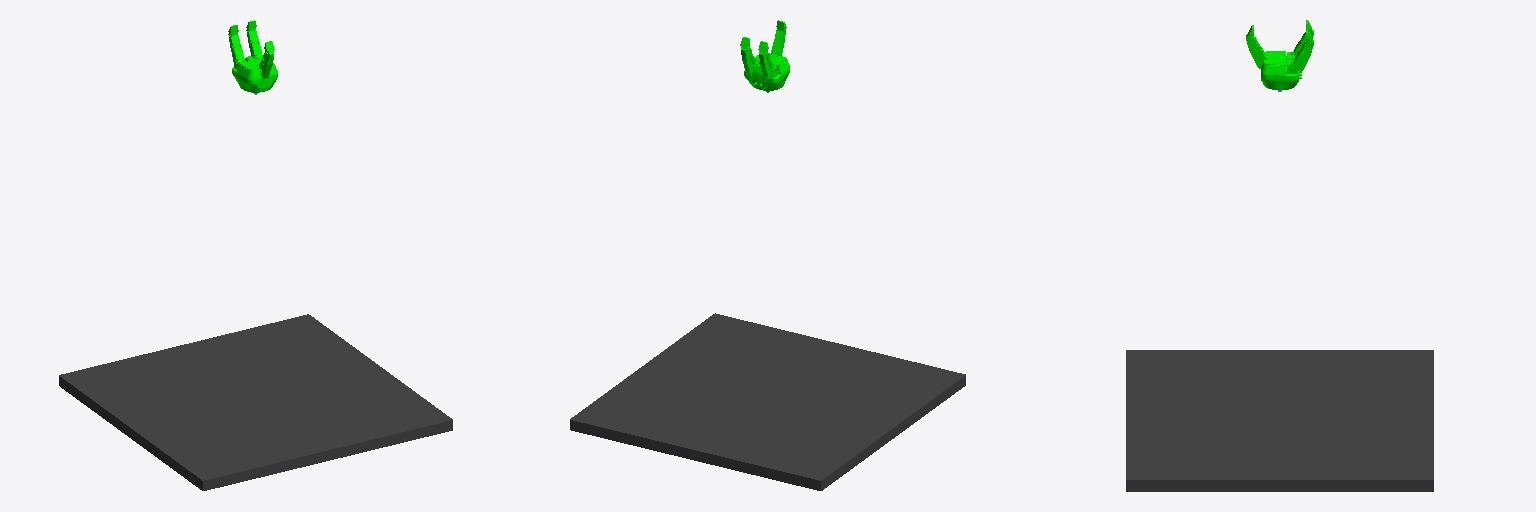
--- Render facts (derived) ---
3 views of the same robot in one strip: view 1: azimuth 30°, elevation 25°; view 2: azimuth 150°, elevation 25°; view 3: azimuth 270°, elevation 25° (orthographic).
Model lwr with 25 links and 24 joints (18 revolute, 6 fixed), rooted at base, posed all joints at 0.
Visible links, largest first — view 1: base, left_palm; view 2: base, left_palm; view 3: base, left_palm.
Link boxes in pixels (x1=…): base: x1=59, y1=314, x2=452, y2=490; left_palm: x1=232, y1=56, x2=277, y2=92; base: x1=570, y1=313, x2=965, y2=490; left_palm: x1=744, y1=53, x2=789, y2=90; base: x1=1126, y1=350, x2=1433, y2=491; left_palm: x1=1261, y1=51, x2=1301, y2=89.
Bounding box of the posed robot: 1 × 1 × 1.43 m (x, y, z).
Meshes: 13 distinct files referenced, 13 mesh visuals loaded (5 OBJ); not drawn: 8 (reference not matched to a file when rendering).

URDF robot description (lwr):
<?xml version="1.0" ?>
<!-- =================================================================================== -->
<!-- |    This document was autogenerated by xacro from kuka_lwr_arm.urdf.xml          | -->
<!-- |    EDITING THIS FILE BY HAND IS NOT RECOMMENDED                                 | -->
<!-- =================================================================================== -->
<robot name="lwr" xmlns:controller="http://playerstage.sourceforge.net/gazebo/xmlschema/#controller" xmlns:interface="http://playerstage.sourceforge.net/gazebo/xmlschema/#interface" xmlns:sensor="http://playerstage.sourceforge.net/gazebo/xmlschema/#sensor" xmlns:xacro="http://www.ros.org/wiki/xacro">
  <gazebo>
    <plugin filename="librtt_gazebo_plugin.so" name="rtt_gazebo">
      <opsScript>
        import(&quot;rtt_ros&quot;);
        ros.import(&quot;rtt_roscomm&quot;);
        ros.import(&quot;rtt_rosparam&quot;);
        ros.import(&quot;rtt_sensor_msgs&quot;);
        ros.import(&quot;lwr_simulation&quot;);
        ros.import(&quot;oro_joint_state_publisher&quot;);
        
        loadComponent(&quot;FRI&quot;,&quot;LWRController&quot;);
        loadComponent(&quot;joints&quot;,&quot;JointStatePublisher&quot;);
        
        loadService(&quot;FRI&quot;,&quot;rosparam&quot;);
        loadService(&quot;joints&quot;,&quot;rosparam&quot;);
        
        setActivity(&quot;FRI&quot;, 0.0, 5, ORO_SCHED_RT);
        setActivity(&quot;joints&quot;, 0.02, 5, ORO_SCHED_RT);
        
        connect(&quot;FRI.JointPosition&quot;,&quot;joints.msrJntPos&quot;, ConnPolicy());
        stream(&quot;joints.joints_state&quot;, rostopic.connection(&quot;/joints_state&quot;));
        
        joints.rosparam.refreshProperties();
        joints.configure();
        joints.start();
      </opsScript>
      <component>FRI</component>
    </plugin>
  </gazebo>
  <material name="DarkGrey">
    <color rgba="0.3 0.3 0.3 1.0"/>
  </material>
  <material name="Red">
    <color rgba="0.3 0.3 0.3 1.0"/>
  </material>
  <material name="Black">
    <color rgba="0 0 0 1.0"/>
  </material>
  <material name="Orange">
    <!--color rgba="1.0 0.487 0 1.0"/-->
    <color rgba="0.0 0.15 0.7 1.0"/>
  </material>
  <material name="Silver">
    <color rgba="1.0 1.0 1.0 1.0"/>
  </material>
  <material name="Grey">
    <color rgba="0.7 0.7 0.7 1.0"/>
  </material>
  <material name="Blue">
    <color rgba="0.0 0.0 0.8 1.0"/>
  </material>
  <material name="HandGray">
    <color rgba="0.953 0.996 0.694 1.0"/>
  </material>
  <material name="SickBlue">
    <color rgba="0.3058 0.5921 0.7294 1.0"/>
  </material>
  <property name="M_PI" value="3.1415926535897931" />
  <!--
  <link name="dupa" >
  </link>
  
  <joint name="arm_world_joint" type="fixed">
    <origin xyz="0 0 0.3" rpy="0 0 0"/>
    <parent link="world"/>
    <child link="world_link"/>
  </joint>
-->
  <link name="base">
    <inertial>
      <mass value="50.0"/>
      <com xyz="0 0 0"/>
      <inertia ixx="0.01" ixy="0.00" ixz="0.00" iyy="0.01" iyz="0.00" izz="0.01"/>
    </inertial>
    <visual>
      <origin rpy="0 0 0" xyz="0 0 0"/>
      <geometry>
        <box size="1 1 0.04"/>
      </geometry>
      <material name="DarkGrey"/>
    </visual>
    <collision>
      <origin rpy="0 0 0" xyz="0 0 0"/>
      <geometry>
        <box size="1 1 0.04"/>
      </geometry>
    </collision>
  </link>
  <joint name="base_joint" type="fixed">
    <origin rpy="0 0 3.14159265359" xyz="0 0 0.02"/>
    <parent link="base"/>
    <child link="lwr_arm_0_link"/>
  </joint>
  <link name="lwr_arm_0_link">
    <inertial>
      <mass value="2.0"/>
      <origin xyz="0 0 0"/>
      <inertia ixx="0.00381666666667" ixy="0" ixz="0" iyy="0.0036" iyz="0" izz="0.00381666666667"/>
    </inertial>
    <visual>
      <origin rpy="0 0 0" xyz="0 0 0"/>
      <geometry>
        <mesh filename="package://lwr_defs/meshes/lwr/base.stl"/>
      </geometry>
      <material name="Orange"/>
    </visual>
    <collision>
      <origin rpy="0 0 3.14159265359" xyz="0 0 0"/>
      <geometry>
        <mesh filename="package://lwr_defs/meshes/lwr/convex/arm_base_convex.stl"/>
        <!--cylinder length="0.11" radius="0.07"/-->
      </geometry>
    </collision>
  </link>
  <joint name="lwr_arm_0_joint" type="revolute">
    <origin rpy="0 0 0" xyz="0 0 0.11"/>
    <axis xyz="0 0 1"/>
    <limit effort="204" lower="-2.96705972839" upper="2.96705972839" velocity="1.91986217719"/>
    <safety_controller k_position="30" k_velocity="30" soft_lower_limit="-2.93215314335" soft_upper_limit="2.93215314335"/>
    <dynamics damping="1.0"/>
    <parent link="lwr_arm_0_link"/>
    <child link="lwr_arm_1_link"/>
  </joint>
  <link name="lwr_arm_1_link">
    <inertial>
      <mass value="2.0"/>
      <origin rpy="0 0 0" xyz="0 -0.06 0.130"/>
      <inertia ixx="0.0136666666667" ixy="0" ixz="0" iyy="0.003" iyz="0" izz="0.0118666666667"/>
    </inertial>
    <visual>
      <origin rpy="0 0 0" xyz="0 0 -0.008"/>
      <geometry>
        <mesh filename="package://lwr_defs/meshes/lwr/link_1.stl"/>
      </geometry>
      <material name="Orange"/>
    </visual>
      <collision>
        <origin xyz="0 0 0" rpy="0 0 0"/>
        <geometry>
          <mesh filename="package://lwr_defs/meshes/lwr/convex/arm_segment_a_convex.stl"/>
        </geometry>
      </collision>
    <!--collision>
      <origin rpy="0 0 0" xyz="0 0 0.0"/>
      <geometry>
        <sphere radius="0.07"/>
      </geometry>
    </collision>
    <collision>
      <origin rpy="0 0 0" xyz="0 -0.06 0.2"/>
      <geometry>
        <sphere radius="0.07"/>
      </geometry>
    </collision>
    <collision>
      <origin rpy="0.291 0 0" xyz="0 -0.03 0.1"/>
      <geometry>
        <cylinder length="0.208" radius="0.07"/>
      </geometry>
    </collision-->
  </link>
  <gazebo reference="lwr_arm_1_link">
    <gravity>false</gravity>
  </gazebo>
  <transmission name="lwr_arm_0_trans" type="SimpleTransmission">
    <actuator name="lwr_arm_0_motor"/>
    <joint name="lwr_arm_0_joint"/>
    <mechanicalReduction>1.0</mechanicalReduction>
  </transmission>
  <joint name="lwr_arm_1_joint" type="revolute">
    <origin rpy="0 0 0" xyz="0 0 0.2005"/>
    <axis xyz="0 1 0"/>
    <limit effort="306" lower="-2.09439510239" upper="2.09439510239" velocity="1.91986217719"/>
    <safety_controller k_position="30" k_velocity="30" soft_lower_limit="-2.05948851735" soft_upper_limit="2.05948851735"/>
    <dynamics damping="1.0" friction="10"/>
    <parent link="lwr_arm_1_link"/>
    <child link="lwr_arm_2_link"/>
  </joint>
  <link name="lwr_arm_2_link">
    <inertial>
      <mass value="2.0"/>
      <origin rpy="0 0 0" xyz="0 0.06 0.07"/>
      <inertia ixx="0.0136666666667" ixy="0" ixz="0" iyy="0.003" iyz="0" izz="0.0118666666667"/>
    </inertial>
    <visual>
      <origin rpy="0 0 0" xyz="0 0 0.0"/>
      <geometry>
        <mesh filename="package://lwr_defs/meshes/lwr/link_2.stl"/>
      </geometry>
      <material name="Orange"/>
    </visual>
      <collision>
        <origin xyz="0 0 0.2" rpy="3.14159265359 0 0"/>
        <geometry>
          <mesh filename="package://lwr_defs/meshes/lwr/convex/arm_segment_b_convex.stl"/>
        </geometry>
      </collision>
    <!--collision>
      <origin rpy="0 0 0" xyz="0 0 0.2"/>
      <geometry>
        <sphere radius="0.07"/>
      </geometry>
    </collision>
    <collision>
      <origin rpy="0 0 0" xyz="0 0.06 0.0"/>
      <geometry>
        <sphere radius="0.07"/>
      </geometry>
    </collision>
    <collision>
      <origin rpy="0.291 0 0" xyz="0 0.03 0.1"/>
      <geometry>
        <cylinder length="0.208" radius="0.07"/>
      </geometry>
    </collision-->
  </link>
  <gazebo reference="lwr_arm_2_link">
    <gravity>false</gravity>
  </gazebo>
  <transmission name="lwr_arm_1_trans" type="SimpleTransmission">
    <actuator name="lwr_arm_1_motor"/>
    <joint name="lwr_arm_1_joint"/>
    <mechanicalReduction>1.0</mechanicalReduction>
  </transmission>
  <joint name="lwr_arm_2_joint" type="revolute">
    <origin rpy="0 0 0" xyz="0 0 0.20"/>
    <axis xyz="0 0 1"/>
    <limit effort="204" lower="-2.96705972839" upper="2.96705972839" velocity="2.26892802759"/>
    <safety_controller k_position="30" k_velocity="30" soft_lower_limit="-2.93215314335" soft_upper_limit="2.93215314335"/>
    <dynamics damping="1.0"/>
    <parent link="lwr_arm_2_link"/>
    <child link="lwr_arm_3_link"/>
  </joint>
  <link name="lwr_arm_3_link">
    <inertial>
      <mass value="2.0"/>
      <origin rpy="0 0 0" xyz="0 0.06 0.130"/>
      <inertia ixx="0.0136666666667" ixy="0" ixz="0" iyy="0.003" iyz="0" izz="0.0118666666667"/>
    </inertial>
    <visual>
      <origin rpy="0 0 0" xyz="0 0 -0.008"/>
      <geometry>
        <mesh filename="package://lwr_defs/meshes/lwr/link_3.stl"/>
      </geometry>
      <material name="Orange"/>
    </visual>
      <collision>
        <origin xyz="0 0 0" rpy="0 0 3.1415926535897931"/>
        <geometry>
          <mesh filename="package://lwr_defs/meshes/lwr/convex/arm_segment_a_convex.stl"/>
        </geometry>
      </collision>
    <!--collision>
      <origin rpy="0 0 0" xyz="0 0 0.0"/>
      <geometry>
        <sphere radius="0.07"/>
      </geometry>
    </collision>
    <collision>
      <origin rpy="0 0 0" xyz="0 0.06 0.2"/>
      <geometry>
        <sphere radius="0.07"/>
      </geometry>
    </collision>
    <collision>
      <origin rpy="-0.291 0 0" xyz="0 0.03 0.1"/>
      <geometry>
        <cylinder length="0.208" radius="0.07"/>
      </geometry>
    </collision-->
  </link>
  <gazebo reference="lwr_arm_3_link">
    <gravity>false</gravity>
  </gazebo>
  <transmission name="lwr_arm_2_trans" type="SimpleTransmission">
    <actuator name="lwr_arm_2_motor"/>
    <joint name="lwr_arm_2_joint"/>
    <mechanicalReduction>1.0</mechanicalReduction>
  </transmission>
  <joint name="lwr_arm_3_joint" type="revolute">
    <origin rpy="0 0 0" xyz="0 0 0.20"/>
    <axis xyz="0 -1 0"/>
    <limit effort="306" lower="-2.09439510239" upper="2.09439510239" velocity="2.26892802759"/>
    <safety_controller k_position="30" k_velocity="30" soft_lower_limit="-2.05948851735" soft_upper_limit="2.05948851735"/>
    <dynamics damping="1.0"/>
    <parent link="lwr_arm_3_link"/>
    <child link="lwr_arm_4_link"/>
  </joint>
  <link name="lwr_arm_4_link">
    <inertial>
      <mass value="2.0"/>
      <origin rpy="0 0 0" xyz="0 -0.06 0.07"/>
      <inertia ixx="0.0136666666667" ixy="0" ixz="0" iyy="0.003" iyz="0" izz="0.0118666666667"/>
    </inertial>
    <visual>
      <origin rpy="0 0 0" xyz="0 0 0.0"/>
      <geometry>
        <mesh filename="package://lwr_defs/meshes/lwr/link_4.stl"/>
      </geometry>
      <material name="Orange"/>
    </visual>

      <collision>
        <origin xyz="0 0 0.2" rpy="0 3.1415926535897931 0"/>
        <geometry>
          <mesh filename="package://lwr_defs/meshes/lwr/convex/arm_segment_b_convex.stl"/>
        </geometry>
      </collision>

    <!--collision>
      <origin rpy="0 0 0" xyz="0 0 0.2"/>
      <geometry>
        <sphere radius="0.07"/>
      </geometry>
    </collision>
    <collision>
      <origin rpy="0 0 0" xyz="0 -0.06 0.0"/>
      <geometry>
        <sphere radius="0.07"/>
      </geometry>
    </collision>
    <collision>
      <origin rpy="-0.291 0 0" xyz="0 -0.03 0.1"/>
      <geometry>
        <cylinder length="0.208" radius="0.07"/>
      </geometry>
    </collision-->
  </link>
  <gazebo reference="lwr_arm_4_link">
    <gravity>false</gravity>
  </gazebo>
  <transmission name="lwr_arm_3_trans" type="SimpleTransmission">
    <actuator name="lwr_arm_3_motor"/>
    <joint name="lwr_arm_3_joint"/>
    <mechanicalReduction>1.0</mechanicalReduction>
  </transmission>
  <joint name="lwr_arm_4_joint" type="revolute">
    <origin rpy="0 0 0" xyz="0 0 0.20"/>
    <axis xyz="0 0 1"/>
    <limit effort="204" lower="-2.96705972839" upper="2.96705972839" velocity="2.26892802759"/>
    <safety_controller k_position="30" k_velocity="30" soft_lower_limit="-2.93215314335" soft_upper_limit="2.93215314335"/>
    <dynamics damping="1.0"/>
    <parent link="lwr_arm_4_link"/>
    <child link="lwr_arm_5_link"/>
  </joint>
  <link name="lwr_arm_5_link">
    <inertial>
      <mass value="2.0"/>
      <origin rpy="0 0 0" xyz="0 0 0.124"/>
      <inertia ixx="0.0126506666667" ixy="0" ixz="0" iyy="0.003" iyz="0" izz="0.0108506666667"/>
    </inertial>
    <visual>
      <origin rpy="0 0 0" xyz="0 0 -0.008"/>
      <geometry name="lwr_arm_5_geom">
        <mesh filename="package://lwr_defs/meshes/lwr/link_5.stl"/>
      </geometry>
      <material name="Orange"/>
    </visual>
      <collision>
        <origin xyz="0 0 0" rpy="0 0 0"/>
        <geometry>
          <mesh filename="package://lwr_defs/meshes/lwr/convex/arm_segment_last_convex.stl"/>
        </geometry>
      </collision>
    <!--collision>
      <origin rpy="0 0 0" xyz="0 0 0.0"/>
      <geometry>
        <sphere radius="0.07"/>
      </geometry>
    </collision>
    <collision>
      <origin rpy="0 0 0" xyz="0 -0.04 0.19"/>
      <geometry>
        <sphere radius="0.07"/>
      </geometry>
    </collision>
    <collision>
      <origin rpy="0.207 0 0" xyz="0 -0.02 0.095"/>
      <geometry>
        <cylinder length="0.198" radius="0.07"/>
      </geometry>
    </collision-->
  </link>
  <gazebo reference="lwr_arm_5_link">
    <gravity>false</gravity>
  </gazebo>
  <transmission name="lwr_arm_4_trans" type="SimpleTransmission">
    <actuator name="lwr_arm_4_motor"/>
    <joint name="lwr_arm_4_joint"/>
    <mechanicalReduction>1.0</mechanicalReduction>
  </transmission>
  <joint name="lwr_arm_5_joint" type="revolute">
    <origin rpy="0 0 0" xyz="0 0 0.19"/>
    <axis xyz="0 1 0"/>
    <limit effort="306" lower="-2.09439510239" upper="2.09439510239" velocity="3.14159265359"/>
    <safety_controller k_position="30" k_velocity="30" soft_lower_limit="-2.05948851735" soft_upper_limit="2.05948851735"/>
    <dynamics damping="1.0"/>
    <parent link="lwr_arm_5_link"/>
    <child link="lwr_arm_6_link"/>
  </joint>
  <link name="lwr_arm_6_link">
    <inertial>
      <mass value="0.2"/>
      <origin rpy="0 0 0" xyz="0 0 0.0625"/>
      <inertia ixx="0.000520833333333" ixy="0" ixz="0" iyy="0.000520833333333" iyz="0" izz="0.000520833333333"/>
    </inertial>
    <visual>
      <origin rpy="0 0 0" xyz="0 0 0"/>
      <geometry>
        <mesh filename="package://lwr_defs/meshes/lwr/link_6.stl"/>
      </geometry>
      <material name="Grey"/>
    </visual>
    <collision>
      <origin rpy="0 0 0" xyz="0 0 0"/>
      <geometry>
        <mesh filename="package://lwr_defs/meshes/lwr/convex/arm_wrist_convex.stl"/>
      </geometry>
    </collision>
  </link>
  <gazebo reference="lwr_arm_6_link">
    <gravity>false</gravity>
  </gazebo>
  <transmission name="lwr_arm_5_trans" type="SimpleTransmission">
    <actuator name="lwr_arm_5_motor"/>
    <joint name="lwr_arm_5_joint"/>
    <mechanicalReduction>1.0</mechanicalReduction>
  </transmission>
  <joint name="lwr_arm_6_joint" type="revolute">
    <origin rpy="0 0 0" xyz="0 0 0.078"/>
    <axis xyz="0 0 1"/>
    <limit effort="204" lower="-2.96705972839" upper="2.96705972839" velocity="3.14159265359"/>
    <safety_controller k_position="30" k_velocity="30" soft_lower_limit="-2.93215314335" soft_upper_limit="2.93215314335"/>
    <dynamics damping="1.0"/>
    <parent link="lwr_arm_6_link"/>
    <child link="lwr_arm_7_link"/>
  </joint>
  <link name="lwr_arm_7_link">
    <inertial>
      <mass value="0.2"/>
      <origin xyz="0 0 0"/>
      <inertia ixx="0.0333333333333" ixy="0" ixz="0" iyy="0.0333333333333" iyz="0" izz="0.0333333333333"/>
    </inertial>
    <visual>
      <origin rpy="0 0 0" xyz="0 0 0"/>
      <geometry>
        <mesh filename="package://lwr_defs/meshes/lwr/link_7.stl"/>
      </geometry>
      <material name="Grey"/>
    </visual>
    <collision>
      <origin rpy="0 0 -0.785398163397" xyz="0 0 0"/>
      <geometry>
        <cylinder length="0.05" radius="0.04"/>
      </geometry>
    </collision>
  </link>
  <gazebo reference="lwr_arm_7_link">
    <gravity>false</gravity>
  </gazebo>
  <transmission name="lwr_arm_6_trans" type="SimpleTransmission">
    <actuator name="lwr_arm_6_motor"/>
    <joint name="lwr_arm_6_joint"/>
    <mechanicalReduction>1.0</mechanicalReduction>
  </transmission>

  <!-- Components for bonus robotiq hand frames -->
  <link name="l_hand_force_torque">
    <inertial>
      <mass value="0.1"/>
      <origin xyz="0 0 0"/>
      <inertia ixx="0.00001" ixy="0" ixz="0" iyy="0.00001" iyz="0" izz="0.00001"/>
    </inertial>
    <visual>
      <origin rpy="0 0 0" xyz="0 0 0"/>
      <geometry>
        <box size="0.01 0.01 0.01"/>
      </geometry>
    </visual>
  </link>
  <joint name="l_hand_force_torque_joint" type="fixed">
    <origin rpy="1.57079 0 3.1416" xyz="0 0 -0.015"/>
    <parent link="lwr_arm_7_link"/>
    <child link="l_hand_force_torque"/>
  </joint>
  <joint name="l_hand_face_joint" type="fixed">
    <origin rpy="0.0 0.0 0.0" xyz="0 0.12 0"/>
    <parent link="l_hand_force_torque"/>
    <child link="l_hand_face"/>
  </joint>
  <link name="l_hand_face"/>
  <joint name="l_hand_gripper_joint" type="fixed">
    <origin rpy="0.0 0.0 0.0" xyz="0 0.18 0"/>
    <parent link="l_hand_force_torque"/>
    <child link="l_hand_gripper"/>
  </joint>
  <link name="l_hand_gripper"/>


  <!-- Robotiq Hand -->
  <joint name="left_robotiq_hand_joint" type="fixed">
    <origin rpy="0 -1.57079 0" xyz="0 0.06566 0.0"/>
    <parent link="l_hand_force_torque"/>
    <child link="left_palm"/>
  </joint>
  <link name="left_finger_1_link_0">
    <visual>
      <origin rpy="0 0 0" xyz="0.020 0 0"/>
      <geometry>
        <mesh filename="package://robotiq_hand_description/meshes/s-model_articulated/visual/link_0.obj"/>
      </geometry>
      <material name="green">
        <color rgba="0 1 0 1"/>
      </material>
    </visual>
    <collision>
      <origin rpy="0 3.1416 -1.57" xyz="-0.0455 0.0414 0.036"/>
      <geometry>
        <mesh filename="package://robotiq_hand_description/meshes/s-model_articulated/collision/link_0.obj"/>
      </geometry>
      <material name="yellow">
        <color rgba="0 1 1 1"/>
      </material>
    </collision>
  </link>
  <link name="left_finger_1_link_1">
    <visual>
      <origin rpy="0 0 -0.52" xyz="0.050 -.028 0"/>
      <geometry>
        <mesh filename="package://robotiq_hand_description/meshes/s-model_articulated/visual/link_1.obj"/>
      </geometry>
      <material name="green"/>
    </visual>
    <collision>
      <origin rpy="0 0 -0.52" xyz="0.050 -.028 0"/>
      <geometry>
        <mesh filename="package://robotiq_hand_description/meshes/s-model_articulated/collision/link_1.obj"/>
      </geometry>
      <material name="yellow"/>
    </collision>
  </link>
  <link name="left_finger_1_link_2">
    <!--
			NOTE: This link has an offset in the z-direction based on the models that were
			used to generate grap-it poses.  With the offset below the model appears visually
			correct, but it is suspect.
			-->
    <visual>
      <origin rpy="0 0 0" xyz="0.039 0 0.0075"/>
      <geometry>
        <mesh filename="package://robotiq_hand_description/meshes/s-model_articulated/visual/link_2.obj"/>
      </geometry>
      <material name="green"/>
    </visual>
    <collision>
      <origin rpy="0 0 0" xyz="0.039 0 0.0075"/>
      <geometry>
        <mesh filename="package://robotiq_hand_description/meshes/s-model_articulated/collision/link_2.obj"/>
      </geometry>
      <material name="yellow"/>
    </collision>
  </link>
  <link name="left_finger_1_link_3">
    <visual>
      <origin rpy="0 0 0.52" xyz="0 0 0"/>
      <geometry>
        <mesh filename="package://robotiq_hand_description/meshes/s-model_articulated/visual/link_3.obj"/>
      </geometry>
      <material name="green"/>
    </visual>
    <collision>
      <origin rpy="0 0 0.52" xyz="0 0 0"/>
      <geometry>
        <mesh filename="package://robotiq_hand_description/meshes/s-model_articulated/collision/link_3.obj"/>
      </geometry>
      <material name="yellow"/>
    </collision>
  </link>
  <joint name="left_finger_1_joint_1" type="revolute">
    <parent link="left_finger_1_link_0"/>
    <child link="left_finger_1_link_1"/>
    <axis xyz="0 0 1"/>
    <origin rpy="0 0 0" xyz="0.020 0 0"/>
    <limit effort="100" lower="0" upper="3.1416" velocity="100"/>
  </joint>
  <joint name="left_finger_1_joint_2" type="revolute">
    <parent link="left_finger_1_link_1"/>
    <child link="left_finger_1_link_2"/>
    <axis xyz="0 0 1"/>
    <origin rpy="0 0 -0.52" xyz="0.050 -.028 0"/>
    <limit effort="100" lower="0" upper="3.1416" velocity="100"/>
  </joint>
  <joint name="left_finger_1_joint_3" type="revolute">
    <parent link="left_finger_1_link_2"/>
    <child link="left_finger_1_link_3"/>
    <axis xyz="0 0 1"/>
    <origin rpy="0 0 0" xyz="0.039 0 0"/>
    <limit effort="100" lower="0" upper="3.1416" velocity="100"/>
  </joint>
  <link name="left_finger_2_link_0">
    <visual>
      <origin rpy="0 0 0" xyz="0.020 0 0"/>
      <geometry>
        <mesh filename="package://robotiq_hand_description/meshes/s-model_articulated/visual/link_0.obj"/>
      </geometry>
      <material name="green">
        <color rgba="0 1 0 1"/>
      </material>
    </visual>
    <collision>
      <origin rpy="0 3.1416 -1.57" xyz="-0.0455 0.0414 0.036"/>
      <geometry>
        <mesh filename="package://robotiq_hand_description/meshes/s-model_articulated/collision/link_0.obj"/>
      </geometry>
      <material name="yellow">
        <color rgba="0 1 1 1"/>
      </material>
    </collision>
  </link>
  <link name="left_finger_2_link_1">
    <visual>
      <origin rpy="0 0 -0.52" xyz="0.050 -.028 0"/>
      <geometry>
        <mesh filename="package://robotiq_hand_description/meshes/s-model_articulated/visual/link_1.obj"/>
      </geometry>
      <material name="green"/>
    </visual>
    <collision>
      <origin rpy="0 0 -0.52" xyz="0.050 -.028 0"/>
      <geometry>
        <mesh filename="package://robotiq_hand_description/meshes/s-model_articulated/collision/link_1.obj"/>
      </geometry>
      <material name="yellow"/>
    </collision>
  </link>
  <link name="left_finger_2_link_2">
    <!--
			NOTE: This link has an offset in the z-direction based on the models that were
			used to generate grap-it poses.  With the offset below the model appears visually
			correct, but it is suspect.
			-->
    <visual>
      <origin rpy="0 0 0" xyz="0.039 0 0.0075"/>
      <geometry>
        <mesh filename="package://robotiq_hand_description/meshes/s-model_articulated/visual/link_2.obj"/>
      </geometry>
      <material name="green"/>
    </visual>
    <collision>
      <origin rpy="0 0 0" xyz="0.039 0 0.0075"/>
      <geometry>
        <mesh filename="package://robotiq_hand_description/meshes/s-model_articulated/collision/link_2.obj"/>
      </geometry>
      <material name="yellow"/>
    </collision>
  </link>
  <link name="left_finger_2_link_3">
    <visual>
      <origin rpy="0 0 0.52" xyz="0 0 0"/>
      <geometry>
        <mesh filename="package://robotiq_hand_description/meshes/s-model_articulated/visual/link_3.obj"/>
      </geometry>
      <material name="green"/>
    </visual>
    <collision>
      <origin rpy="0 0 0.52" xyz="0 0 0"/>
      <geometry>
        <mesh filename="package://robotiq_hand_description/meshes/s-model_articulated/collision/link_3.obj"/>
      </geometry>
      <material name="yellow"/>
    </collision>
  </link>
  <joint name="left_finger_2_joint_1" type="revolute">
    <parent link="left_finger_2_link_0"/>
    <child link="left_finger_2_link_1"/>
    <axis xyz="0 0 1"/>
    <origin rpy="0 0 0" xyz="0.020 0 0"/>
    <limit effort="100" lower="0" upper="3.1416" velocity="100"/>
  </joint>
  <joint name="left_finger_2_joint_2" type="revolute">
    <parent link="left_finger_2_link_1"/>
    <child link="left_finger_2_link_2"/>
    <axis xyz="0 0 1"/>
    <origin rpy="0 0 -0.52" xyz="0.050 -.028 0"/>
    <limit effort="100" lower="0" upper="3.1416" velocity="100"/>
  </joint>
  <joint name="left_finger_2_joint_3" type="revolute">
    <parent link="left_finger_2_link_2"/>
    <child link="left_finger_2_link_3"/>
    <axis xyz="0 0 1"/>
    <origin rpy="0 0 0" xyz="0.039 0 0"/>
    <limit effort="100" lower="0" upper="3.1416" velocity="100"/>
  </joint>
  <link name="left_finger_middle_link_0">
    <visual>
      <origin rpy="0 0 0" xyz="0.020 0 0"/>
      <geometry>
        <mesh filename="package://robotiq_hand_description/meshes/s-model_articulated/visual/link_0.obj"/>
      </geometry>
      <material name="green">
        <color rgba="0 1 0 1"/>
      </material>
    </visual>
    <collision>
      <origin rpy="0 3.1416 -1.57" xyz="-0.0455 0.0414 0.036"/>
      <geometry>
        <mesh filename="package://robotiq_hand_description/meshes/s-model_articulated/collision/link_0.obj"/>
      </geometry>
      <material name="yellow">
        <color rgba="0 1 1 1"/>
      </material>
    </collision>
  </link>
  <link name="left_finger_middle_link_1">
    <visual>
      <origin rpy="0 0 -0.52" xyz="0.050 -.028 0"/>
      <geometry>
        <mesh filename="package://robotiq_hand_description/meshes/s-model_articulated/visual/link_1.obj"/>
      </geometry>
      <material name="green"/>
    </visual>
    <collision>
      <origin rpy="0 0 -0.52" xyz="0.050 -.028 0"/>
      <geometry>
        <mesh filename="package://robotiq_hand_description/meshes/s-model_articulated/collision/link_1.obj"/>
      </geometry>
      <material name="yellow"/>
    </collision>
  </link>
  <link name="left_finger_middle_link_2">
    <!--
			NOTE: This link has an offset in the z-direction based on the models that were
			used to generate grap-it poses.  With the offset below the model appears visually
			correct, but it is suspect.
			-->
    <visual>
      <origin rpy="0 0 0" xyz="0.039 0 0.0075"/>
      <geometry>
        <mesh filename="package://robotiq_hand_description/meshes/s-model_articulated/visual/link_2.obj"/>
      </geometry>
      <material name="green"/>
    </visual>
    <collision>
      <origin rpy="0 0 0" xyz="0.039 0 0.0075"/>
      <geometry>
        <mesh filename="package://robotiq_hand_description/meshes/s-model_articulated/collision/link_2.obj"/>
      </geometry>
      <material name="yellow"/>
    </collision>
  </link>
  <link name="left_finger_middle_link_3">
    <visual>
      <origin rpy="0 0 0.52" xyz="0 0 0"/>
      <geometry>
        <mesh filename="package://robotiq_hand_description/meshes/s-model_articulated/visual/link_3.obj"/>
      </geometry>
      <material name="green"/>
    </visual>
    <collision>
      <origin rpy="0 0 0.52" xyz="0 0 0"/>
      <geometry>
        <mesh filename="package://robotiq_hand_description/meshes/s-model_articulated/collision/link_3.obj"/>
      </geometry>
      <material name="yellow"/>
    </collision>
  </link>
  <joint name="left_finger_middle_joint_1" type="revolute">
    <parent link="left_finger_middle_link_0"/>
    <child link="left_finger_middle_link_1"/>
    <axis xyz="0 0 1"/>
    <origin rpy="0 0 0" xyz="0.020 0 0"/>
    <limit effort="100" lower="0" upper="3.1416" velocity="100"/>
  </joint>
  <joint name="left_finger_middle_joint_2" type="revolute">
    <parent link="left_finger_middle_link_1"/>
    <child link="left_finger_middle_link_2"/>
    <axis xyz="0 0 1"/>
    <origin rpy="0 0 -0.52" xyz="0.050 -.028 0"/>
    <limit effort="100" lower="0" upper="3.1416" velocity="100"/>
  </joint>
  <joint name="left_finger_middle_joint_3" type="revolute">
    <parent link="left_finger_middle_link_2"/>
    <child link="left_finger_middle_link_3"/>
    <axis xyz="0 0 1"/>
    <origin rpy="0 0 0" xyz="0.039 0 0"/>
    <limit effort="100" lower="0" upper="3.1416" velocity="100"/>
  </joint>
  <link name="left_palm">
    <visual>
      <geometry>
        <mesh filename="package://robotiq_hand_description/meshes/s-model_articulated/visual/palm.obj"/>
      </geometry>
      <material name="green">
        <color rgba="0 1 0 1"/>
      </material>
    </visual>
    <collision>
      <geometry>
        <mesh filename="package://robotiq_hand_description/meshes/s-model_articulated/collision/palm.obj"/>
      </geometry>
      <material name="yellow">
        <color rgba="0 1 1 1"/>
      </material>
    </collision>
  </link>
  <joint name="left_palm_finger_1_joint" type="revolute">
    <parent link="left_palm"/>
    <child link="left_finger_1_link_0"/>
    <axis xyz="0 1 0"/>
    <origin rpy="0 3.1416 -1.57" xyz="-0.0455 0.0214 0.036"/>
    <limit effort="100" lower="-0.16" upper="0.25" velocity="100"/>
  </joint>
  <joint name="left_palm_finger_2_joint" type="revolute">
    <parent link="left_palm"/>
    <child link="left_finger_2_link_0"/>
    <axis xyz="0 1 0"/>
    <origin rpy="0 3.1416 -1.57" xyz="-0.0455 0.0214 -0.036"/>
    <limit effort="100" lower="-0.25" upper="0.16" velocity="100"/>
  </joint>
  <joint name="left_palm_finger_middle_joint" type="fixed">
    <parent link="left_palm"/>
    <child link="left_finger_middle_link_0"/>
    <axis xyz="0 0 1"/>
    <origin rpy="0 0 1.57" xyz="0.0455 0.0214 0"/>
  </joint>


</robot>
